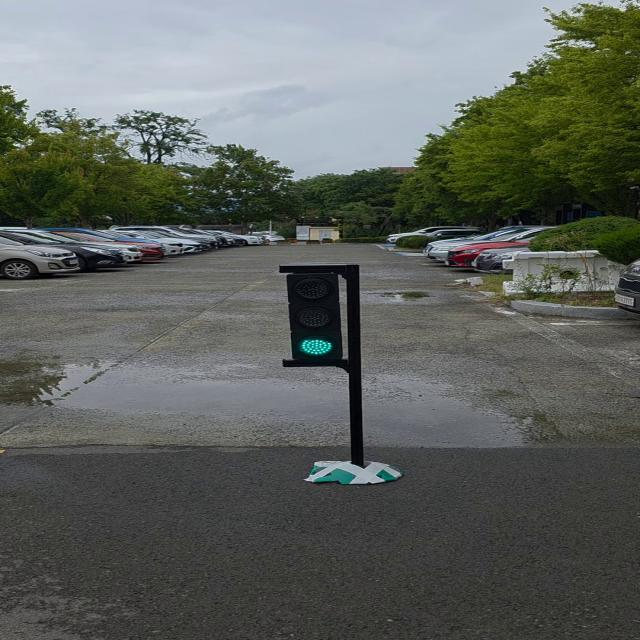green: (284, 268, 356, 364)
